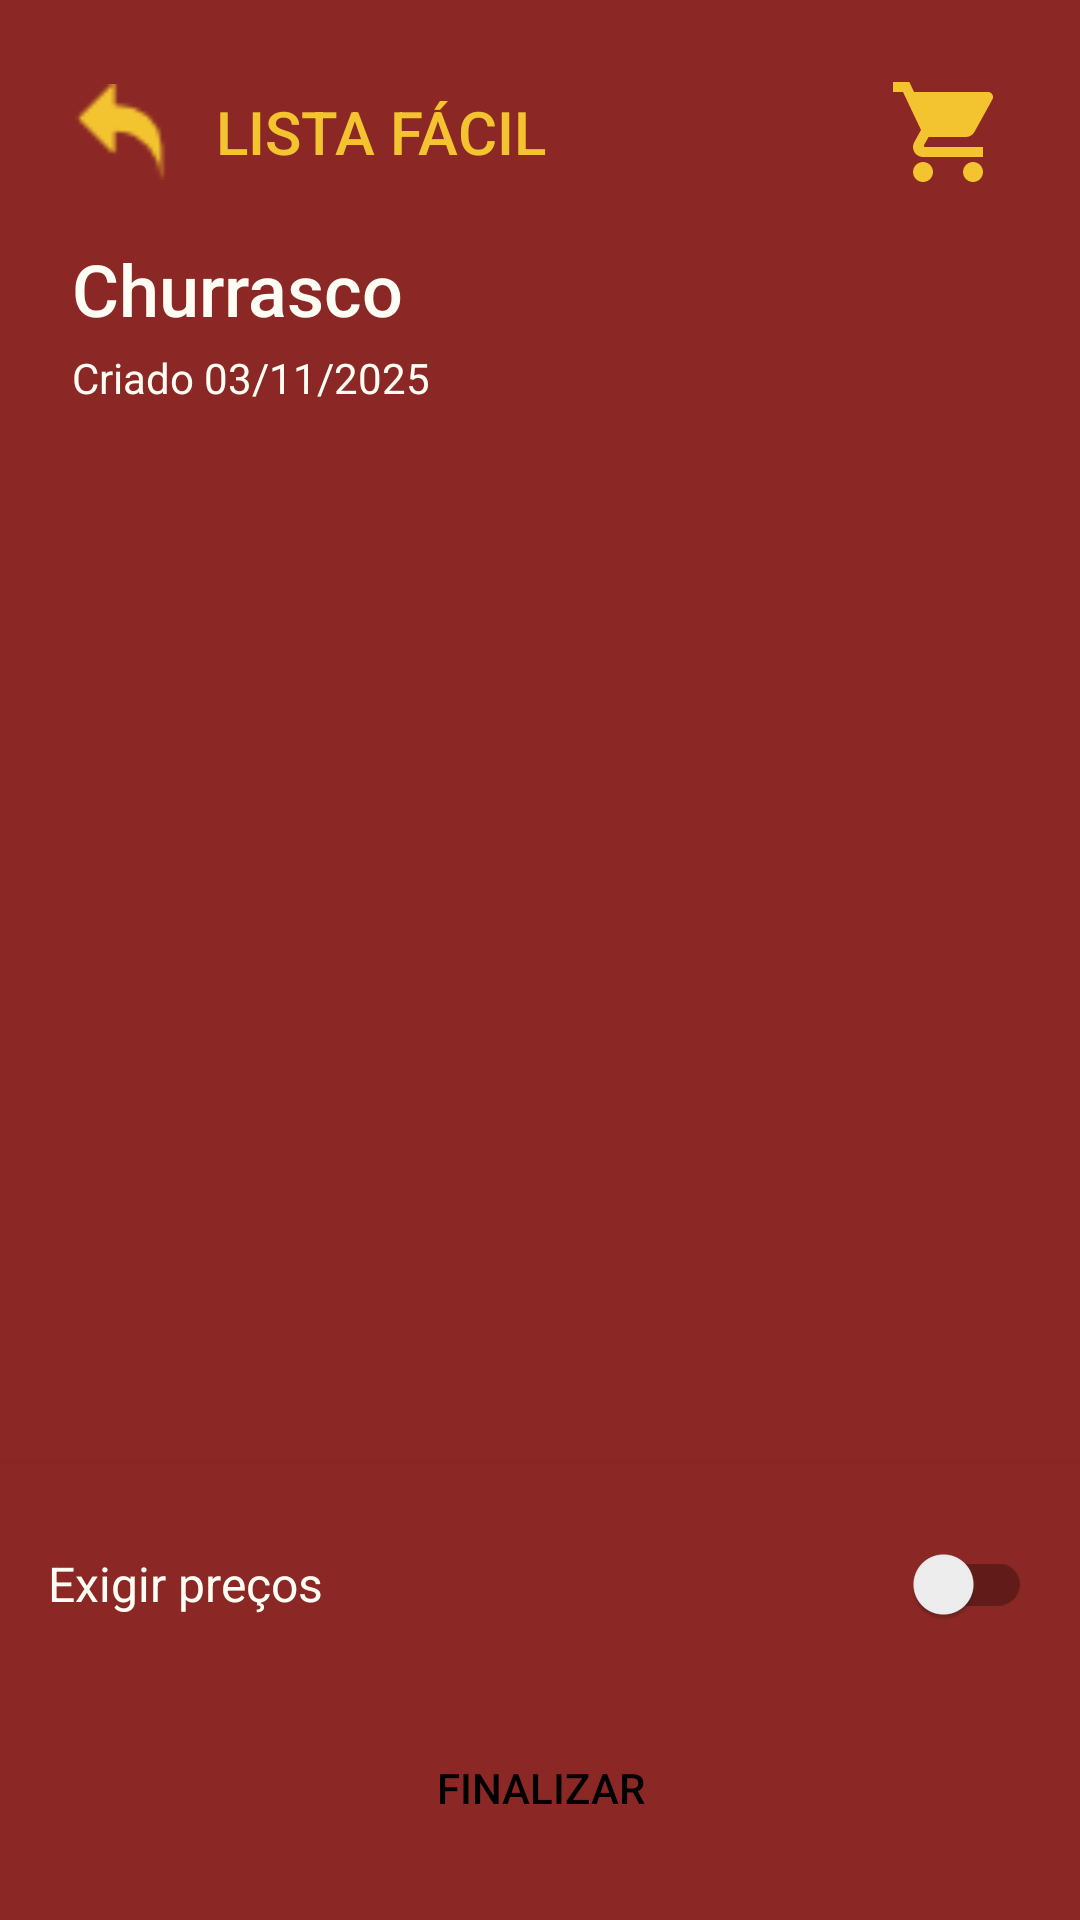

Icons on this 1080 × 1920 Android screen, each with the point to tap as [x,y]:
cart: [943,132]
Voltar: [121,130]
